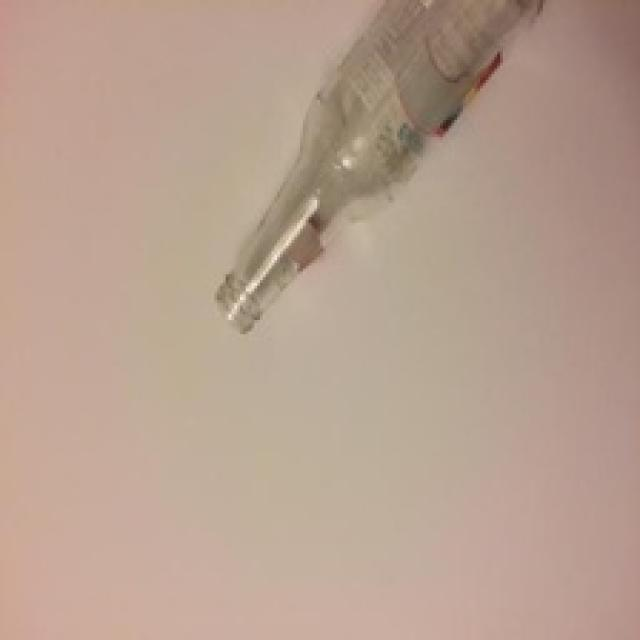Glass: (218, 0, 548, 333)
